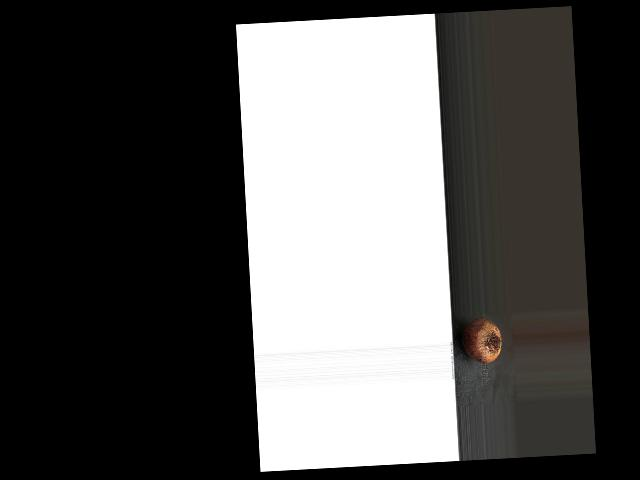beet: (460, 316, 502, 363)
